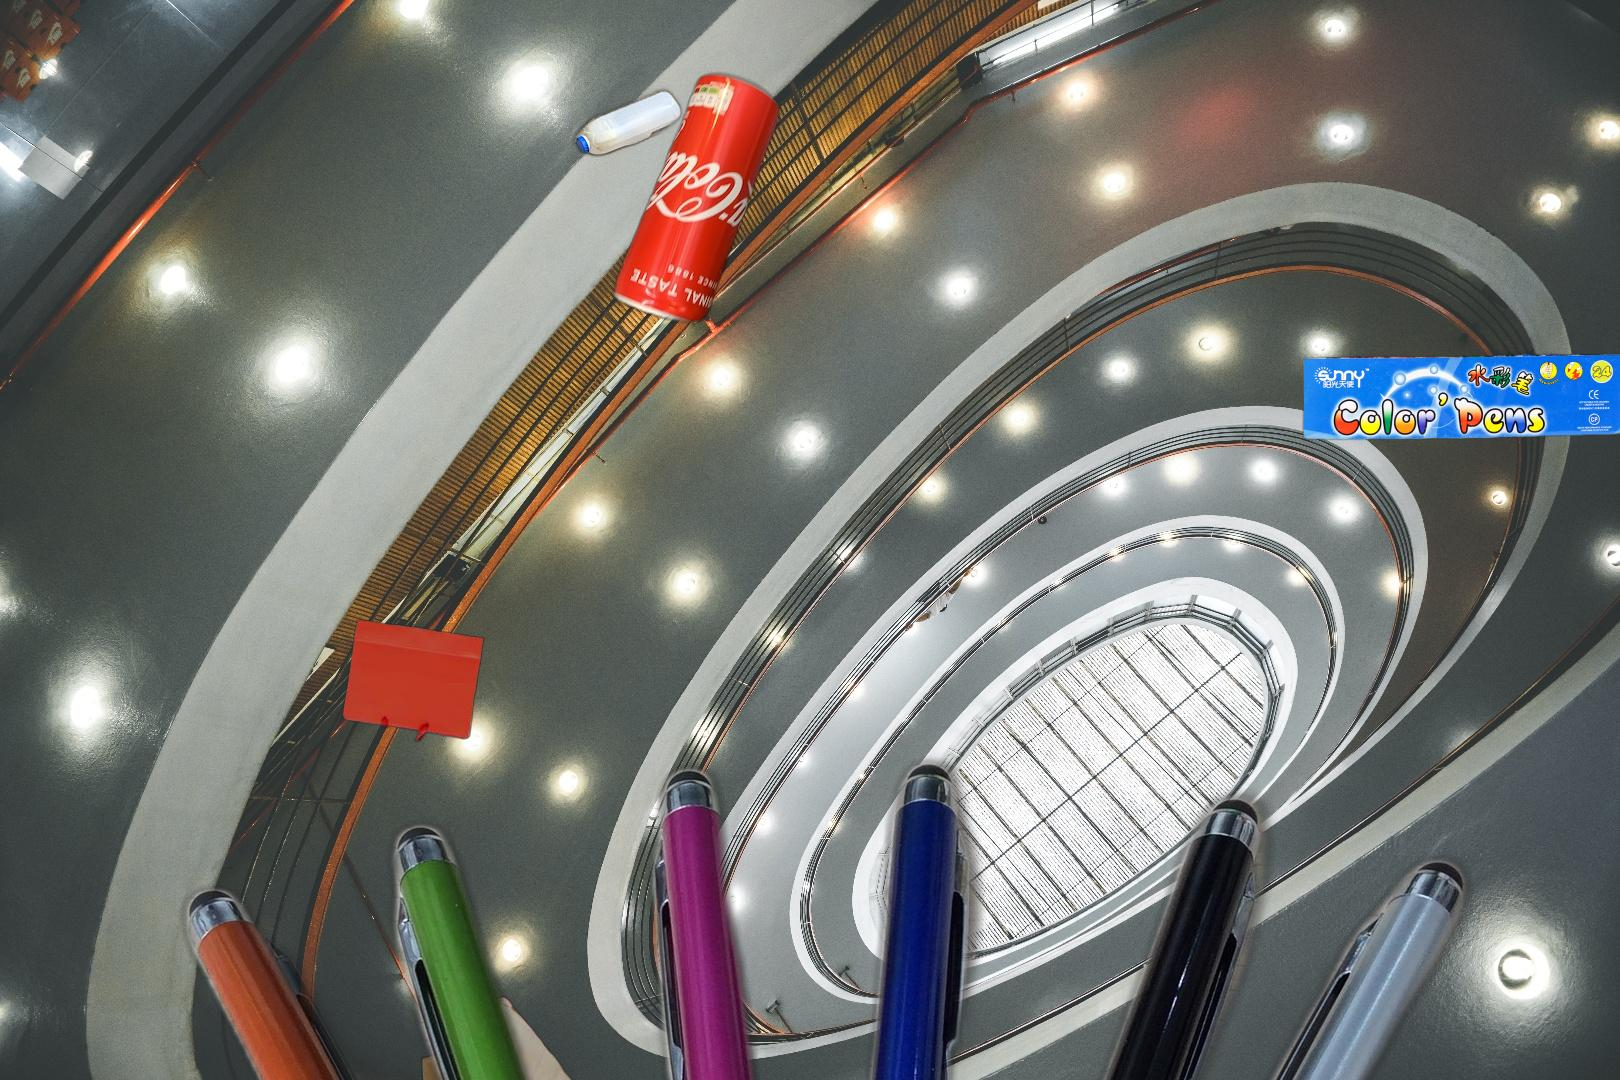metal-cans: (607, 67, 785, 329)
paper-bag: (341, 617, 487, 744), (419, 994, 609, 1080)
penholder: (166, 747, 1620, 1080), (1301, 237, 1620, 444)
plastic-bottles: (559, 55, 686, 170)
